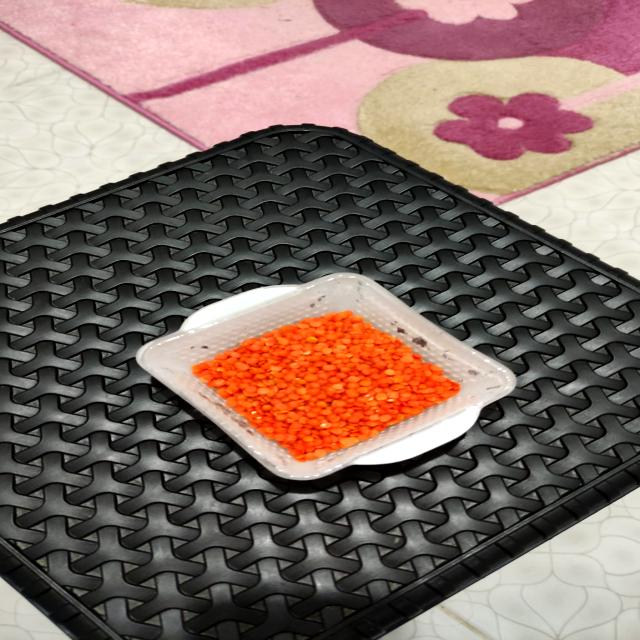red lentils: (142, 274, 509, 477)
